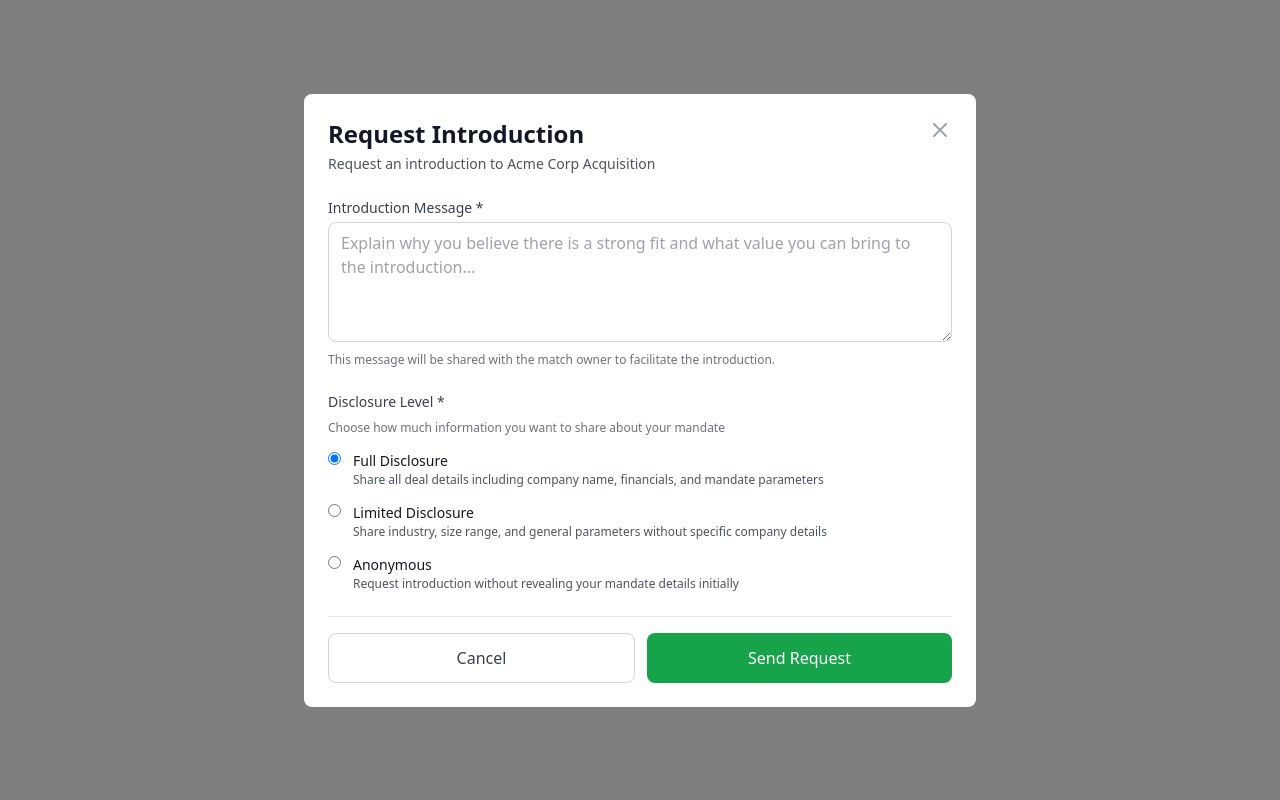
IntroductionRequestModal › should show loading state during submission
Fill required field
Replace the text in the text box labelled "Introduction Message *" with "Test message" at (640, 282), box [328,222,952,342]
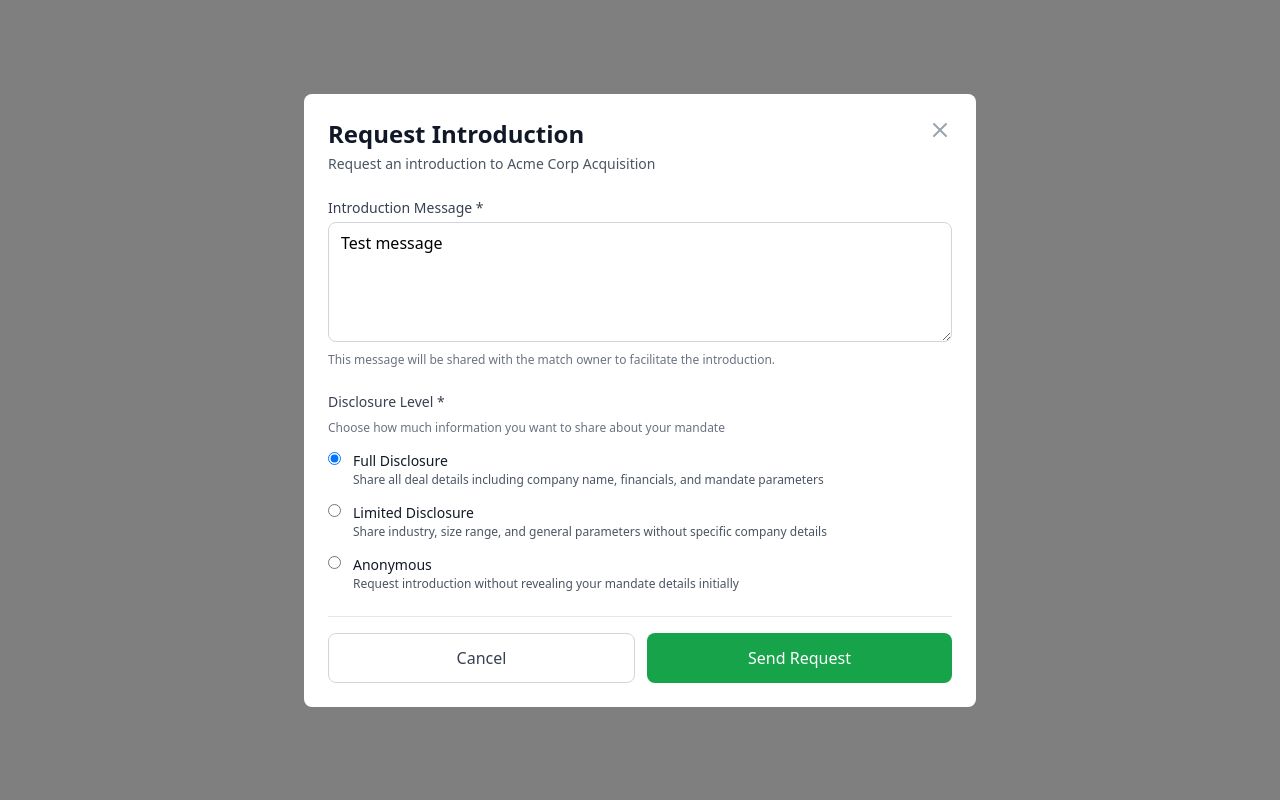
Click the button "Send Request" at (800, 658), box [647,632,952,682]
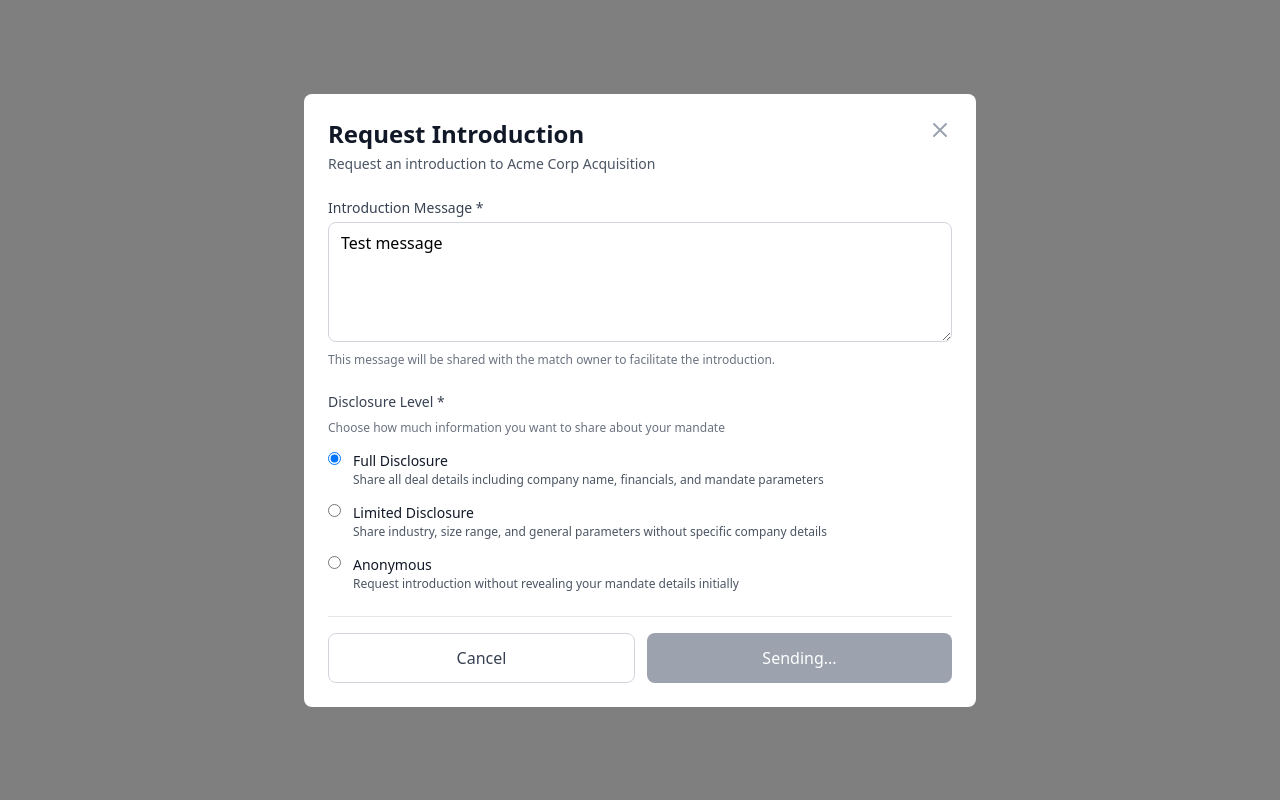
Result: the button "Sending..." is shown at [647,632,952,682]
